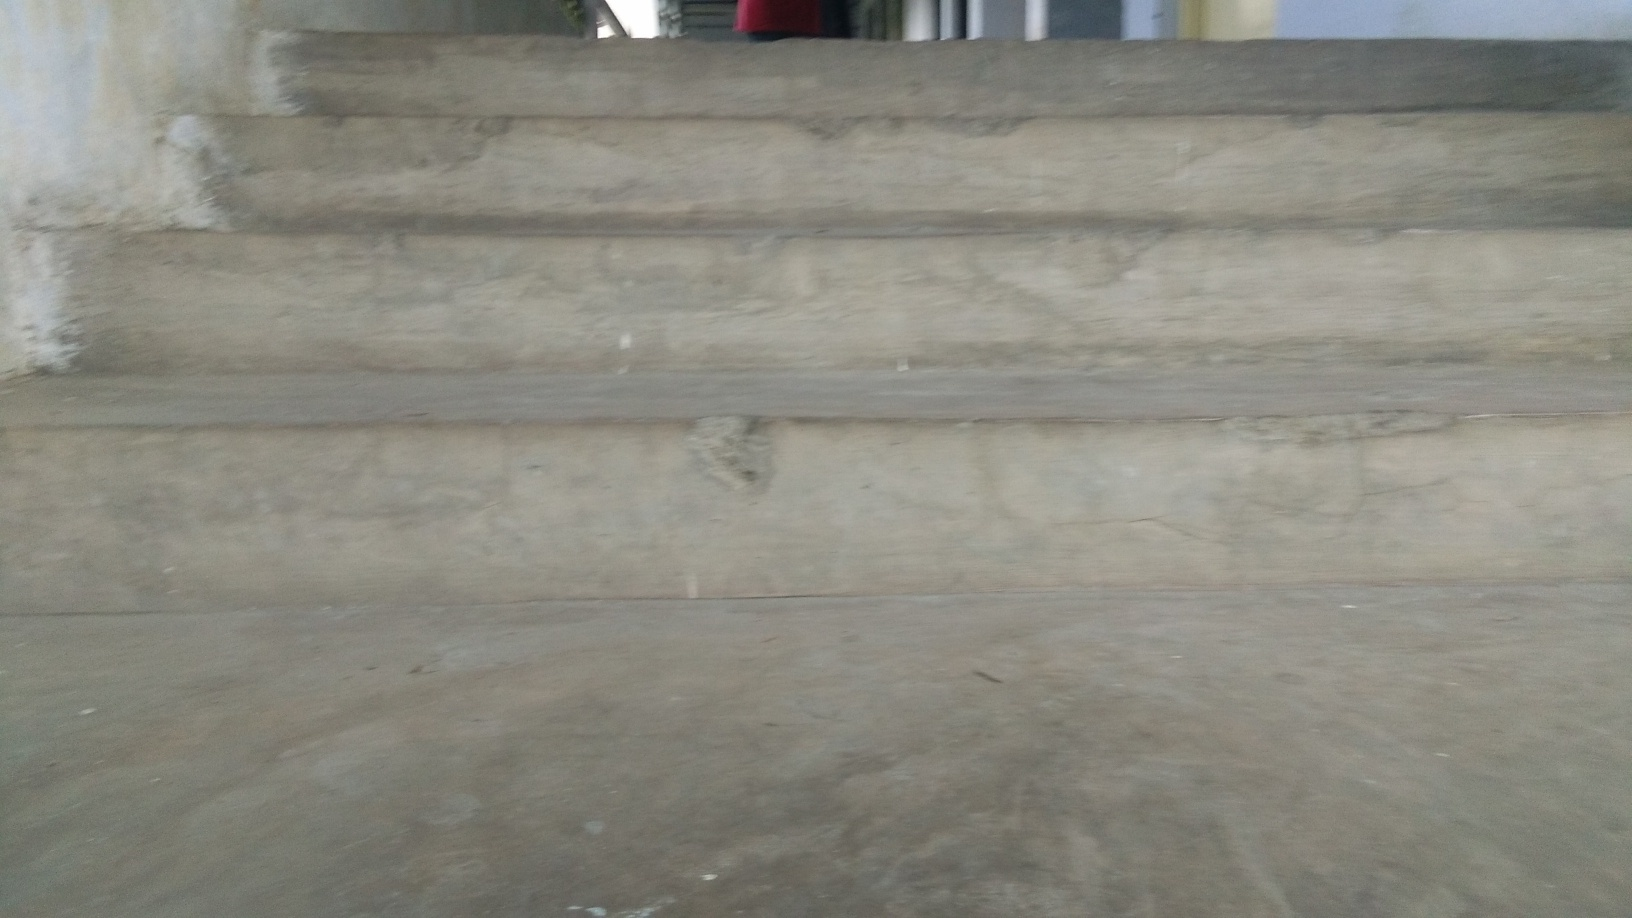stairs_up: (3, 29, 1625, 592)
